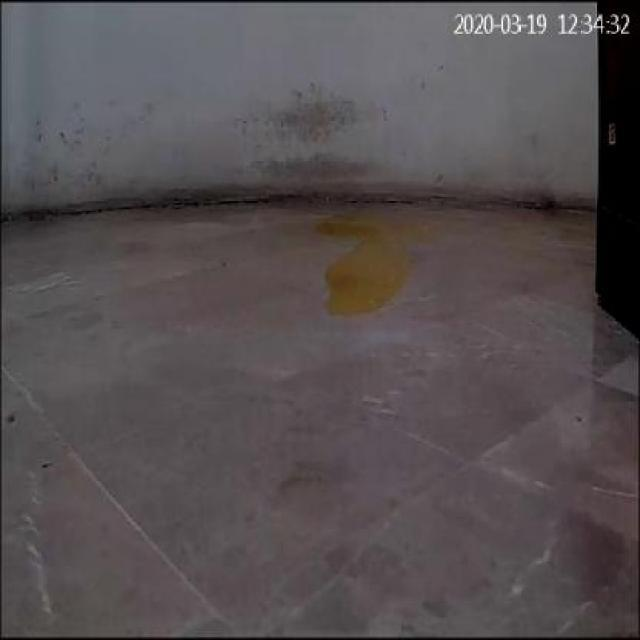spill: (310, 210, 430, 321)
